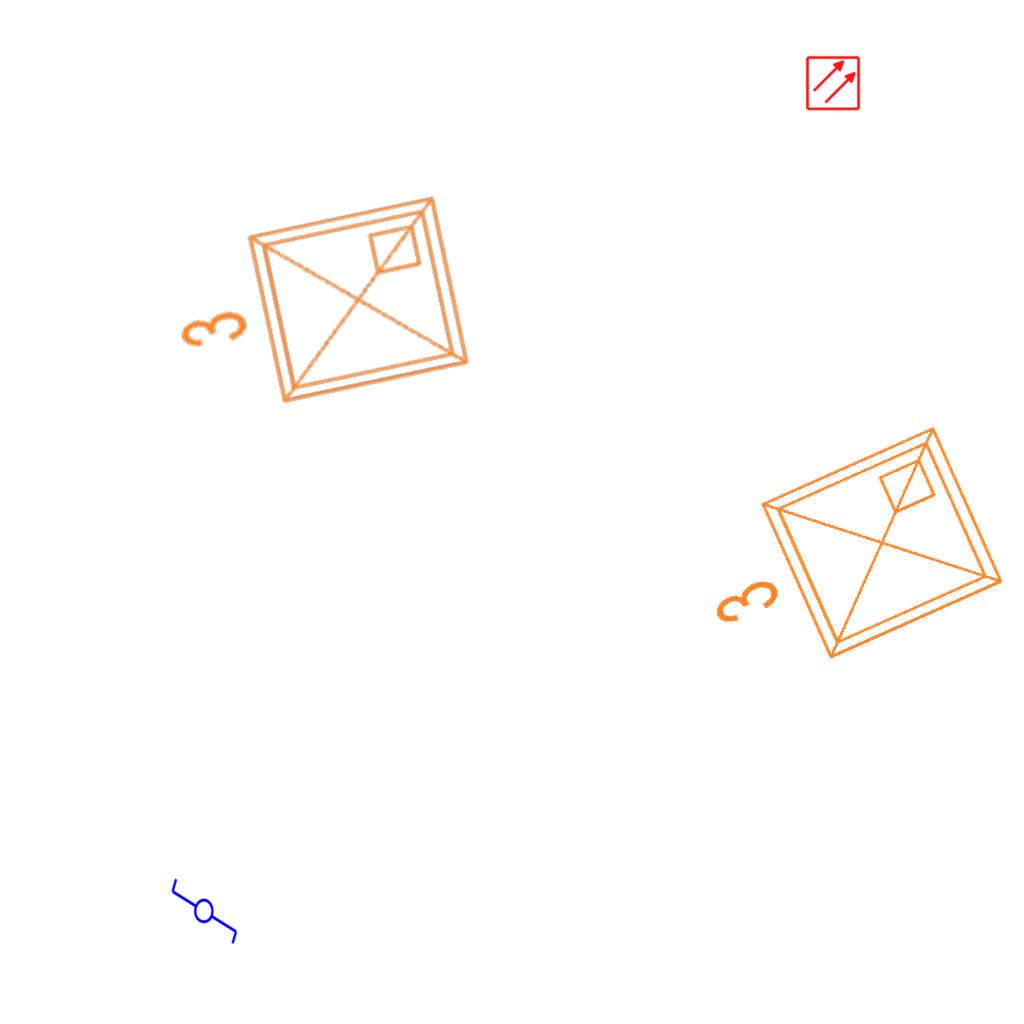Einbaudownlights_LED_Konferenzraeume: (666, 406, 1024, 720), (150, 179, 488, 445)
RMO_Rauchmelder_optischer: (805, 55, 861, 111)
Wechselschalter: (169, 868, 241, 946)
